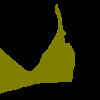reggiseno: (0, 3, 75, 94)
